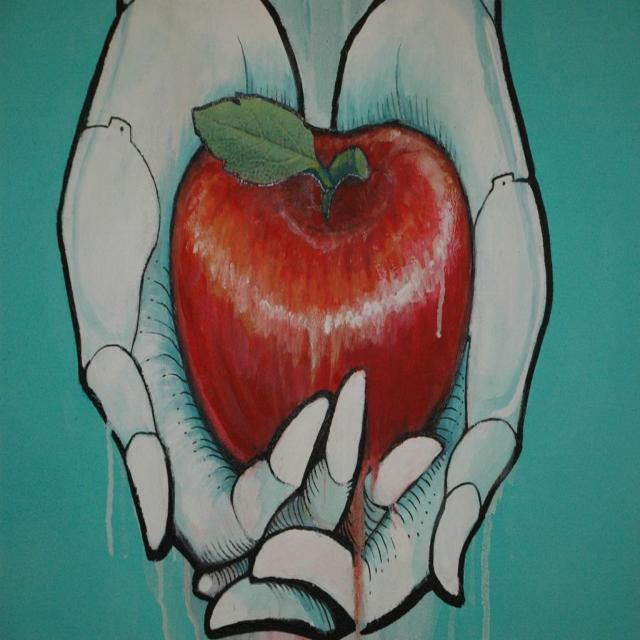Healty Apple: (170, 92, 475, 470)
